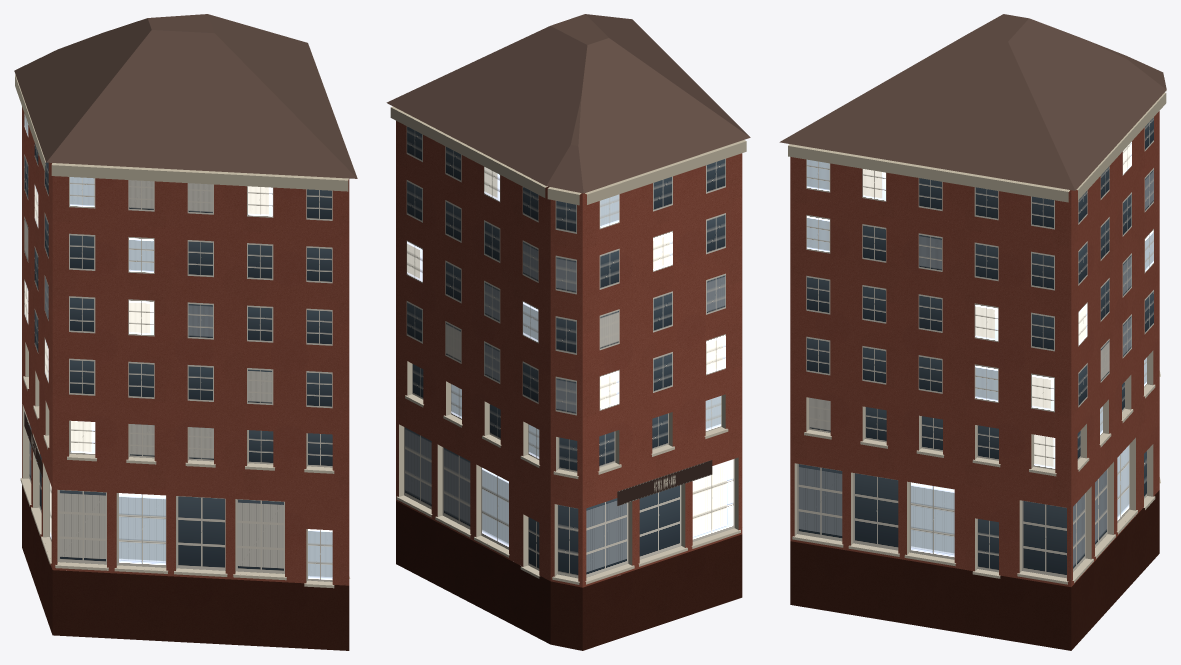
Rendered from langB_rothaus.glb.
3 views of the same model, side by side, from view 1: azimuth 30°, elevation 25°; view 2: azimuth 150°, elevation 25°; view 3: azimuth 270°, elevation 25° (orthographic). The views are drawn at different scales.
Parts seen in each view (by area): view 1: langB_rothaus; view 2: langB_rothaus; view 3: langB_rothaus.
Boxes of the visible parts, x1=… form: langB_rothaus: x1=14, y1=14, x2=357, y2=650; langB_rothaus: x1=386, y1=14, x2=750, y2=650; langB_rothaus: x1=779, y1=14, x2=1166, y2=650.
Size of the model in its own units: 15.33 by 25.84 by 16.54.
Materials: 3 (3 with a texture image).
